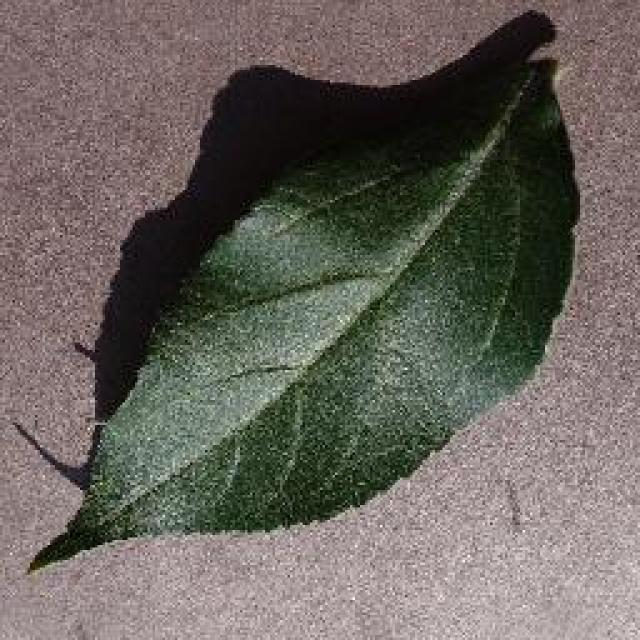apple scab disease: (25, 7, 583, 575)
